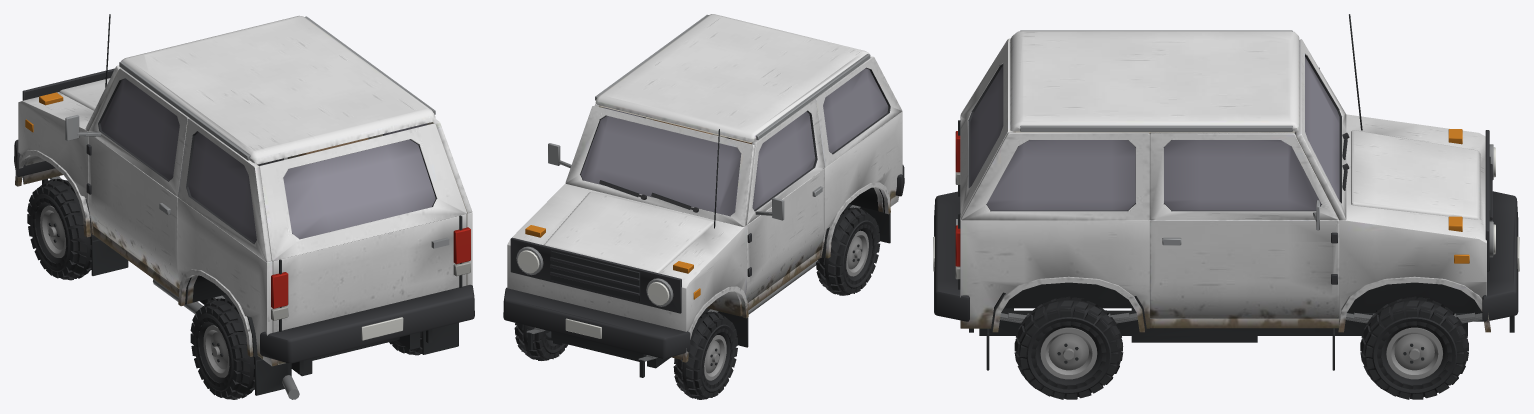
The model's file is steppe.m.glb.
3 views of the same model, side by side, from view 1: azimuth 30°, elevation 25°; view 2: azimuth 150°, elevation 25°; view 3: azimuth 270°, elevation 25° (orthographic). The views are drawn at different scales.
Visible parts, largest first — view 1: body, door_FL, wheel_FL, wheel_RL; view 2: body, door_FL, wheel_FL, wheel_RL, wheel_FR, door_FR; view 3: body, door_FR, wheel_RR, wheel_FR.
Boxes of the visible parts, x1=… form: body: x1=14, y1=14, x2=474, y2=399; door_FL: x1=65, y1=68, x2=189, y2=288; wheel_FL: x1=27, y1=178, x2=98, y2=280; wheel_RL: x1=190, y1=298, x2=261, y2=399; body: x1=503, y1=14, x2=904, y2=377; door_FL: x1=745, y1=99, x2=824, y2=302; wheel_FL: x1=673, y1=311, x2=737, y2=399; wheel_RL: x1=816, y1=207, x2=880, y2=295; wheel_FR: x1=514, y1=323, x2=567, y2=360; door_FR: x1=548, y1=103, x2=650, y2=168; body: x1=933, y1=14, x2=1519, y2=370; door_FR: x1=1150, y1=132, x2=1339, y2=318; wheel_RR: x1=1014, y1=296, x2=1123, y2=399; wheel_FR: x1=1360, y1=296, x2=1468, y2=399.
Bounding box in the file's own units: 2.1 × 2.09 × 3.73.
Materials: 16 (1 with a texture image).
